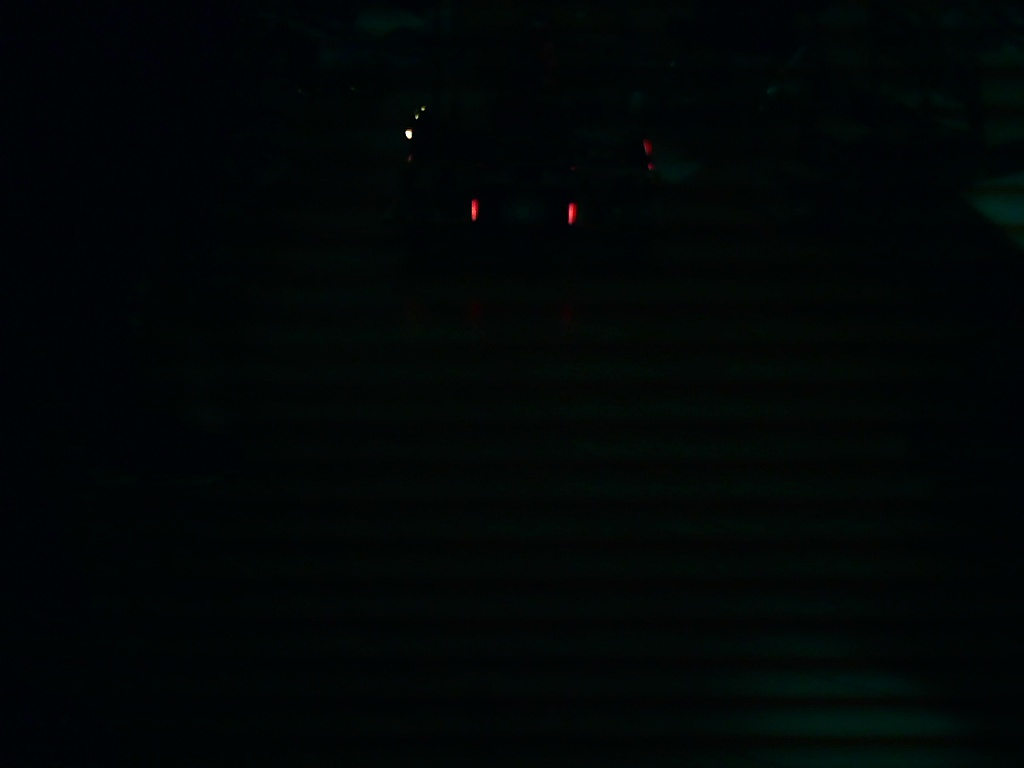lamp: (565, 197, 580, 226), (468, 195, 482, 224)
